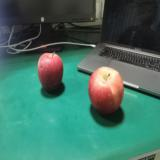apple: (89, 66, 124, 115), (38, 51, 64, 92)
